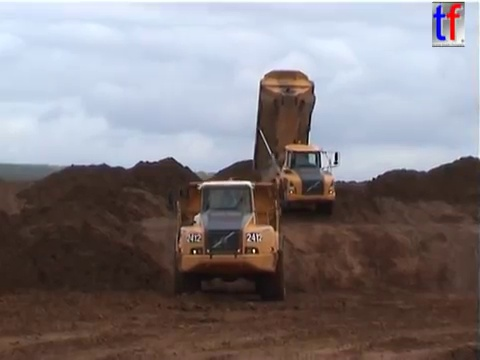truck: (166, 174, 289, 303), (250, 68, 342, 218)
